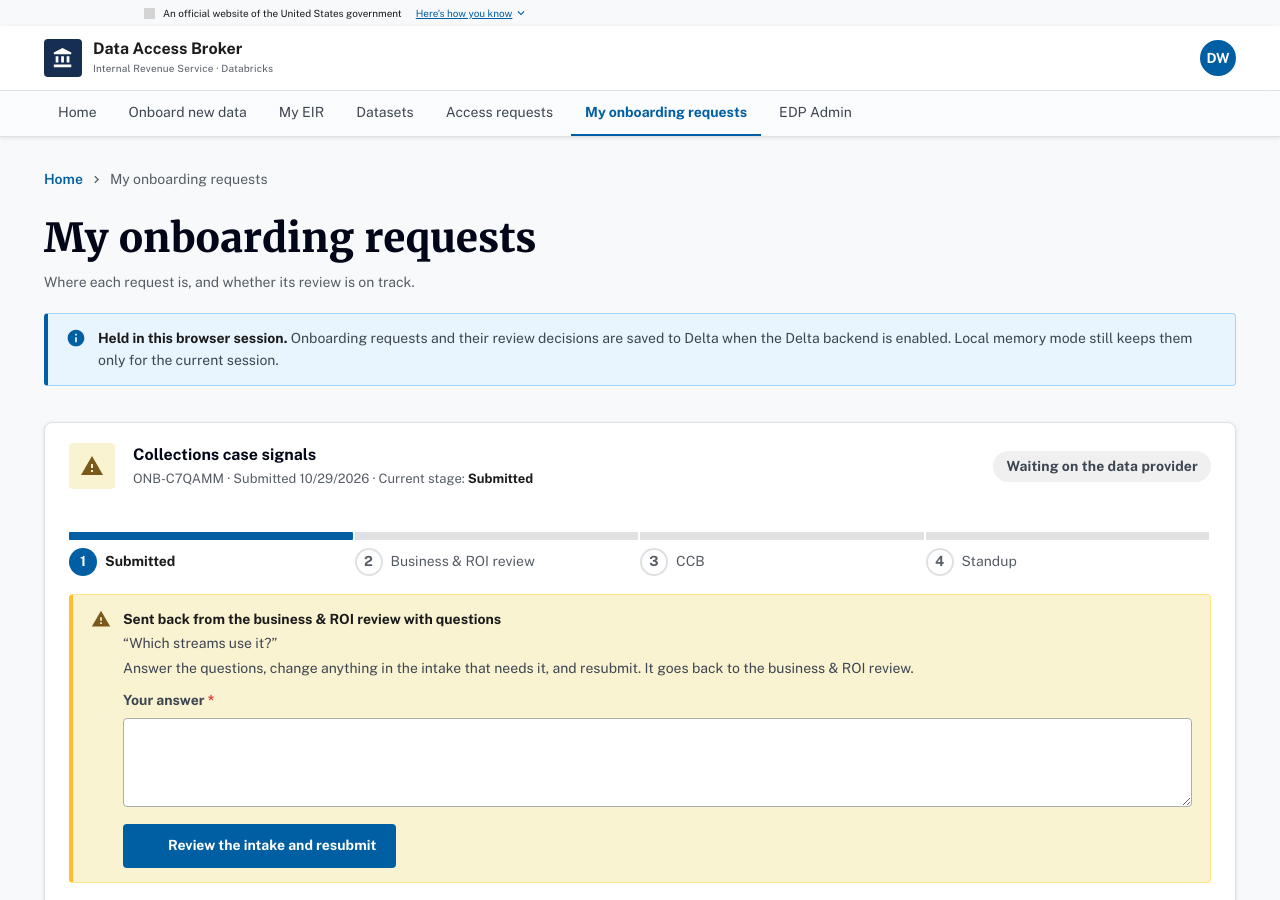
Test: the resubmission wizard's step indicator at 390px › leaves the step labels as progress, not controls
The width and height of the screenshot is (1280, 900).
Click the button "Review the intake and resubmit": (260, 846) [123, 824, 396, 868]
(page scrolled)
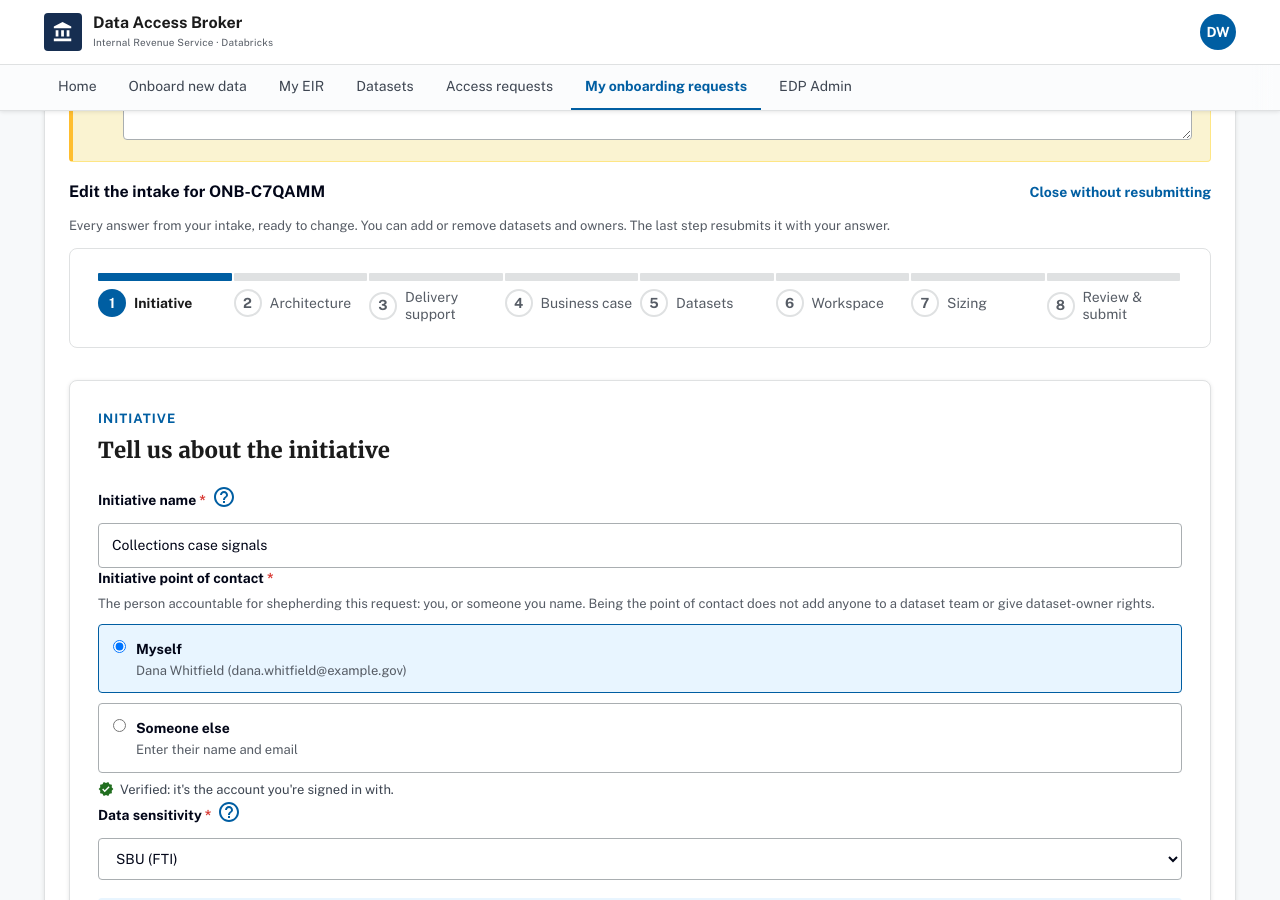
Check: the heading "Tell us about the initiative" is shown, box [98, 434, 390, 467]
